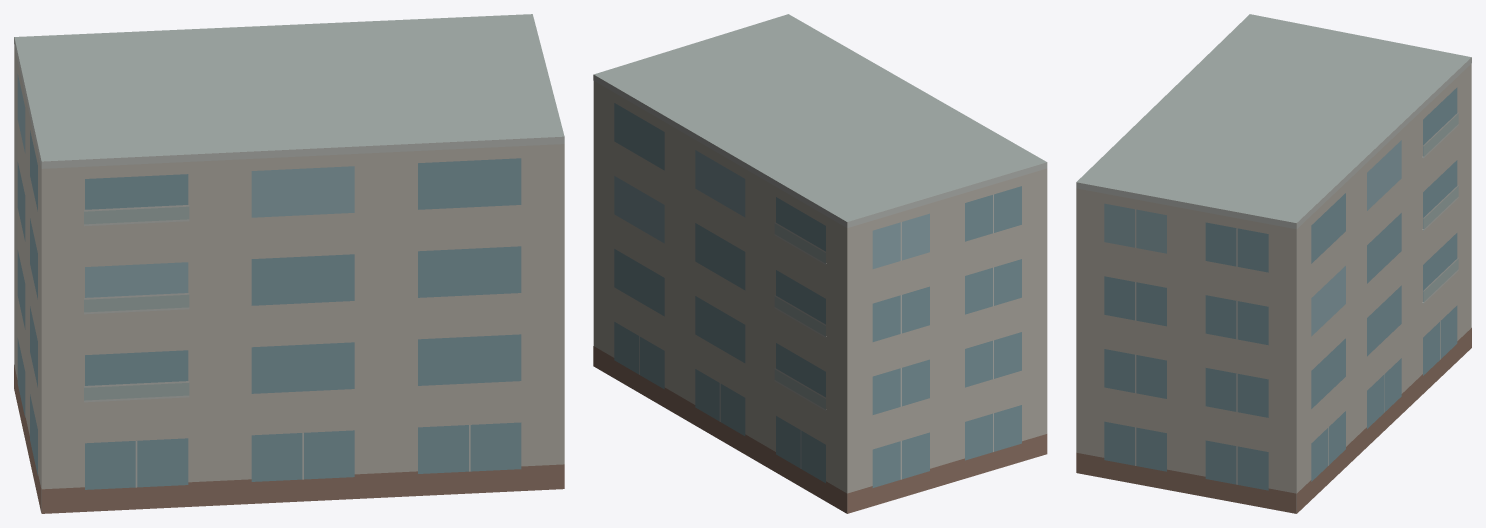
Rendered from survey-upis-32948087.glb.
3 renders of one model, left to right at view 1: azimuth 30°, elevation 25°; view 2: azimuth 150°, elevation 25°; view 3: azimuth 270°, elevation 25°, orthographic. The views are drawn at different scales.
Parts seen in each view (by area): view 1: survey-upis-32948087.tmp; view 2: survey-upis-32948087.tmp; view 3: survey-upis-32948087.tmp.
Part boxes in pixels (bbox=[...]): survey-upis-32948087.tmp: bbox=[14, 14, 564, 513]; survey-upis-32948087.tmp: bbox=[593, 14, 1047, 513]; survey-upis-32948087.tmp: bbox=[1076, 14, 1471, 513].
Bounding box in the file's own units: 18.07 × 11.7 × 14.44.
